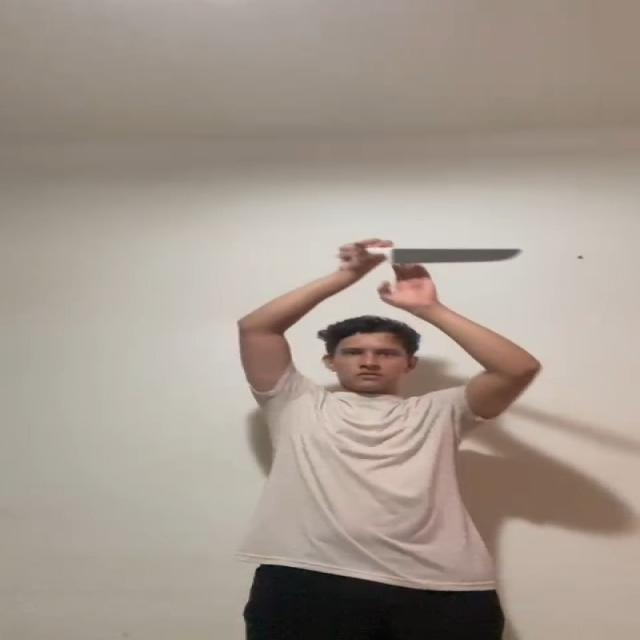knife: (396, 244, 532, 264)
